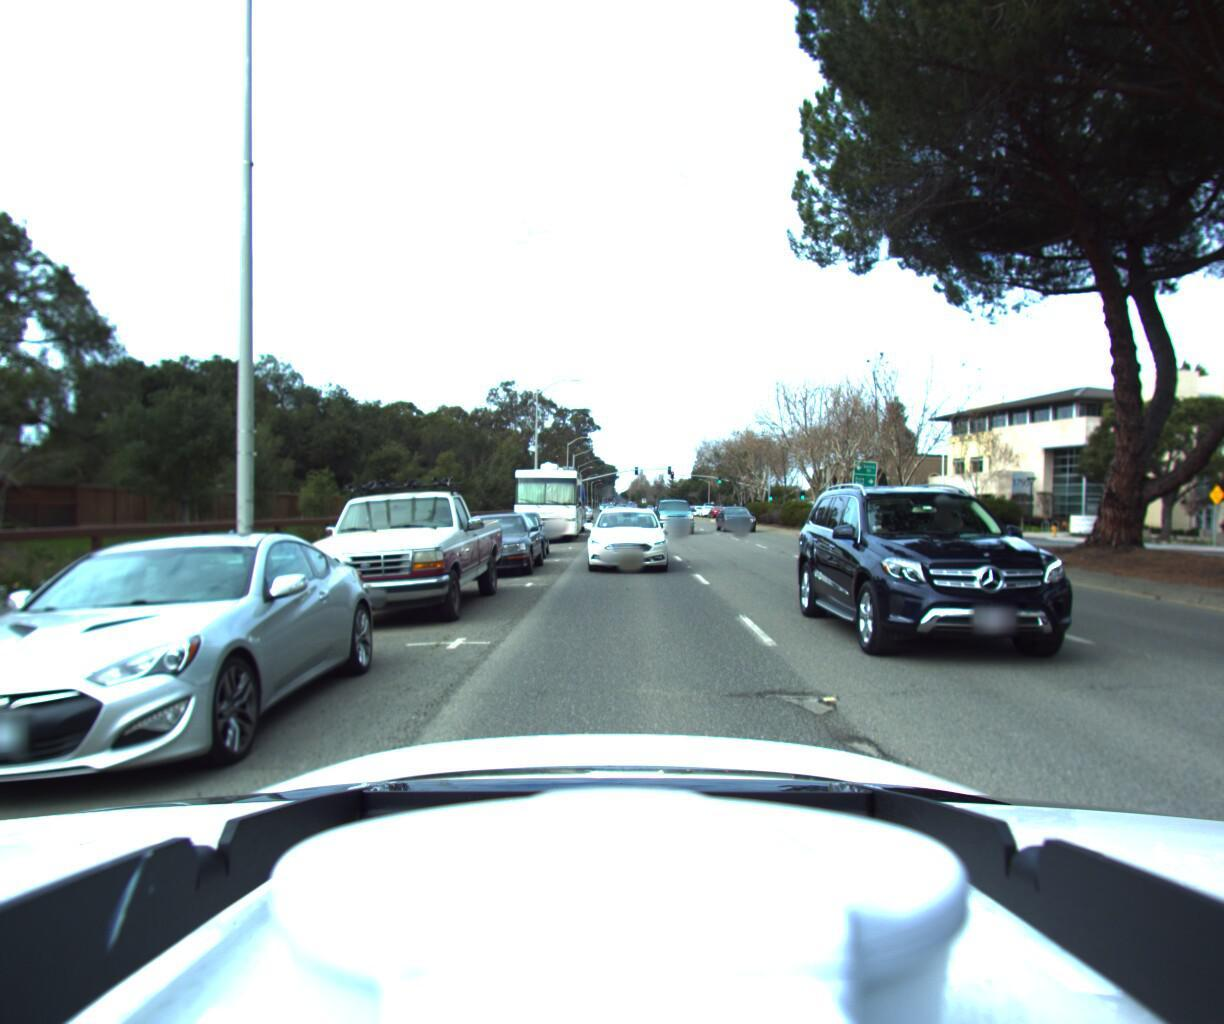car: (805, 459, 1171, 696), (276, 465, 500, 638), (443, 510, 546, 583), (582, 503, 665, 573), (475, 509, 549, 563), (652, 494, 696, 536), (716, 505, 760, 533)
other_vehicle: (505, 454, 582, 545)
